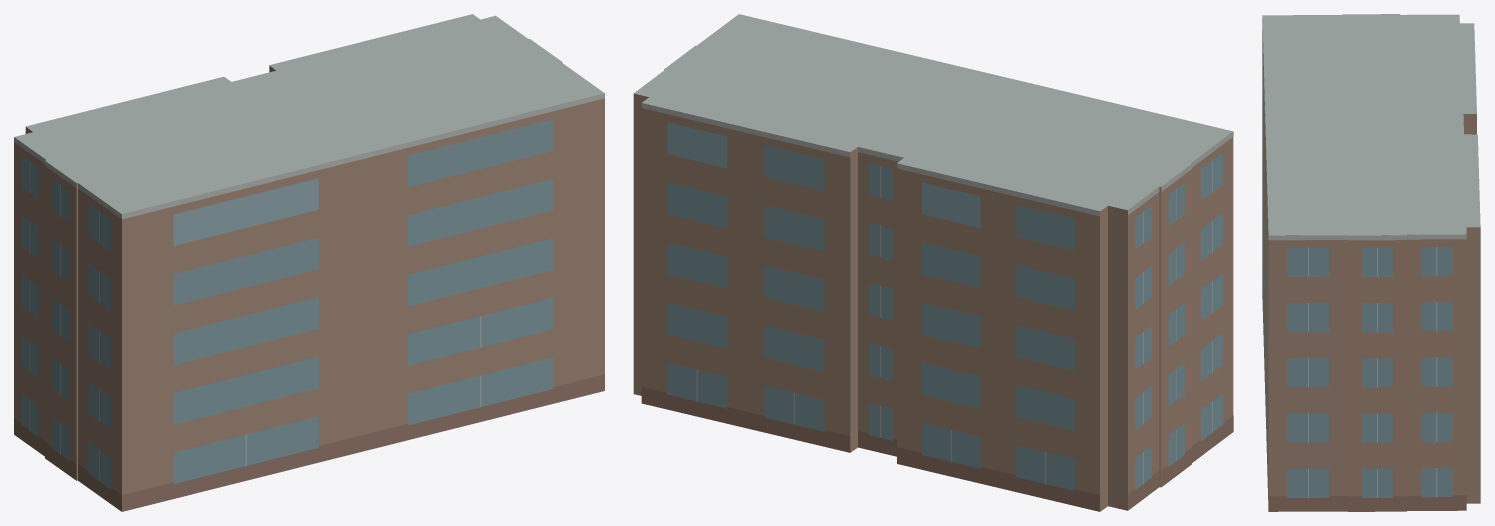
Rendered from survey-upis-32662693.glb.
3 views of the same model, side by side, from view 1: azimuth 30°, elevation 25°; view 2: azimuth 150°, elevation 25°; view 3: azimuth 270°, elevation 25° (orthographic). The views are drawn at different scales.
Visible parts, largest first — view 1: survey-upis-32662693.tmp; view 2: survey-upis-32662693.tmp; view 3: survey-upis-32662693.tmp.
Boxes of the visible parts, <box> form: survey-upis-32662693.tmp: <box>14,14,604,511</box>; survey-upis-32662693.tmp: <box>633,14,1233,511</box>; survey-upis-32662693.tmp: <box>1262,14,1480,511</box>.
Bounding box in the file's own units: 24.27 × 14.1 × 10.11.
